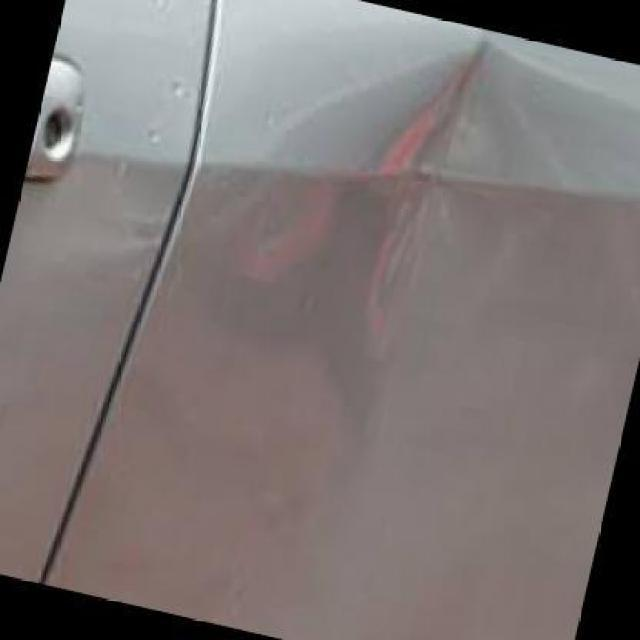dent: (360, 112, 446, 372)
